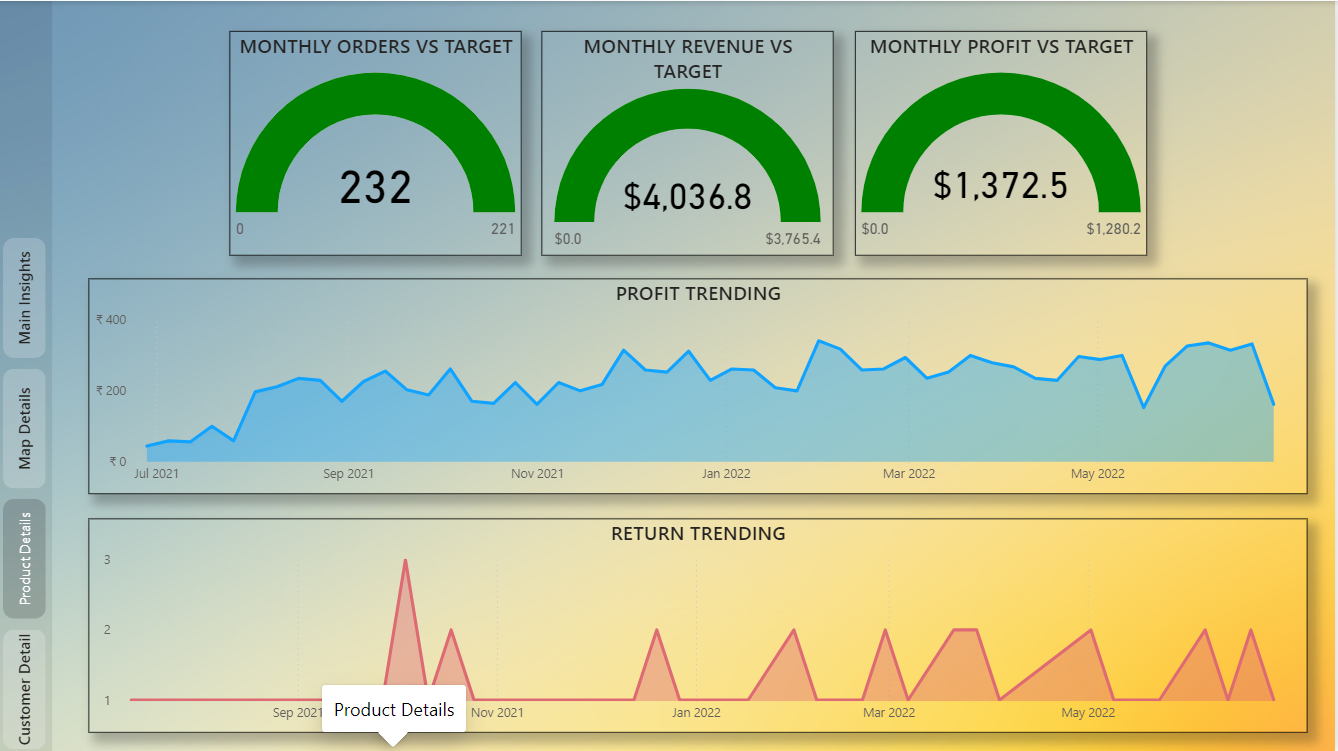

What the dashboard file says about the page in this screenshot:
{"tool":"powerbi","page":{"name":"Product Details","canvas":[1280,720],"ordinal":2},"visuals":[{"type":"gauge","title":"MONTHLY ORDERS VS TARGET","fields":{"MaxValue":["Measure Table.Order Target"],"Y":["Measure Table.Total Orders"]},"box":[219.4,29.2,280,215],"z":0},{"type":"gauge","title":"MONTHLY REVENUE VS TARGET","fields":{"MaxValue":["Measure Table.Revenue Target"],"Y":["Measure Table.Total Revenue"]},"box":[519.4,29.2,280,215],"z":1000},{"type":"gauge","title":"MONTHLY PROFIT VS TARGET","fields":{"MaxValue":["Measure Table.Profit Target"],"Y":["Measure Table.Total Profit"]},"box":[819.4,29.2,280,215],"z":2000},{"type":"areaChart","title":"PROFIT TRENDING","fields":{"Category":["Calendar Lookup.Date Hierarchy.Start of Year","Calendar Lookup.Date Hierarchy.Start of Month","Calendar Lookup.Date Hierarchy.Start of Week","Calendar Lookup.Date Hierarchy.Date"],"Y":["Measure Table.Total Profit"]},"box":[85,266.7,1168.3,206.7],"z":3000},{"type":"areaChart","title":"RETURN TRENDING","fields":{"Category":["Calendar Lookup.Date Hierarchy.Start of Year","Calendar Lookup.Date Hierarchy.Start of Month","Calendar Lookup.Date Hierarchy.Start of Week","Calendar Lookup.Date Hierarchy.Date"],"Y":["Measure Table.Total Returns"]},"box":[85,496.7,1168.3,205],"z":4000},{"type":"shape","box":[0,0,50,720],"z":6000},{"type":"pageNavigator","box":[3.3,226.7,41.7,493.3],"z":7000}]}

Visuals, with their boxes on the page's 1280x720 design canvas (x1, y1, x2, y2). These are canvas units, not pixel positions in the 1338x751 screenshot, which may show the page scaled, cropped or inside an application window:
"MONTHLY ORDERS VS TARGET" gauge: 219,29,499,244
"MONTHLY REVENUE VS TARGET" gauge: 519,29,799,244
"MONTHLY PROFIT VS TARGET" gauge: 819,29,1099,244
"PROFIT TRENDING" areaChart: 85,267,1253,473
"RETURN TRENDING" areaChart: 85,497,1253,702
shape: 0,0,50,720
pageNavigator: 3,227,45,720
